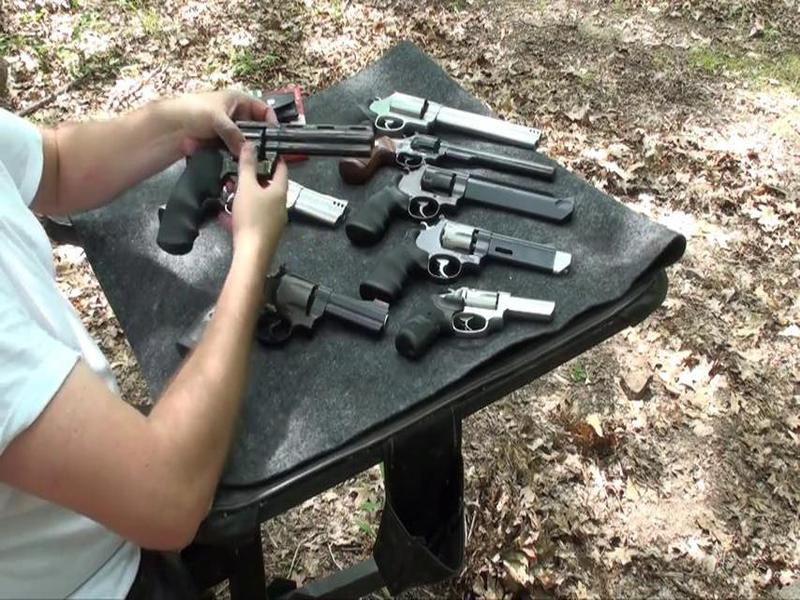Revolver: (158, 111, 376, 256)
